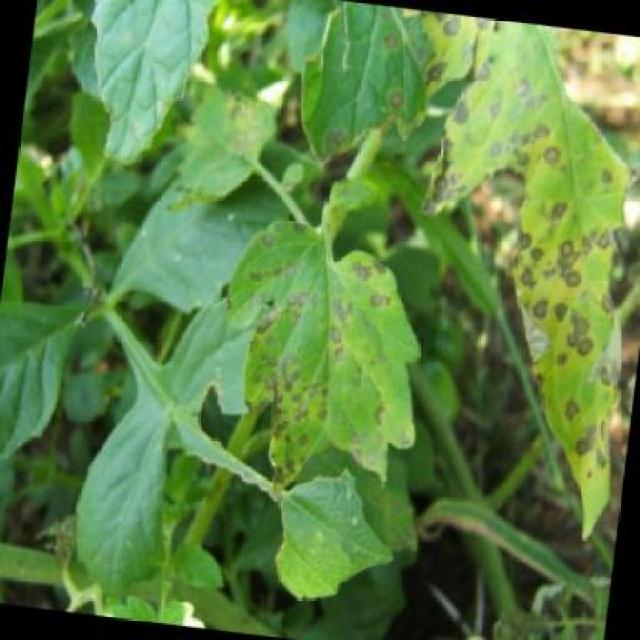Septoria leaf spot: (395, 20, 640, 523), (195, 203, 449, 506), (224, 1, 484, 193)
